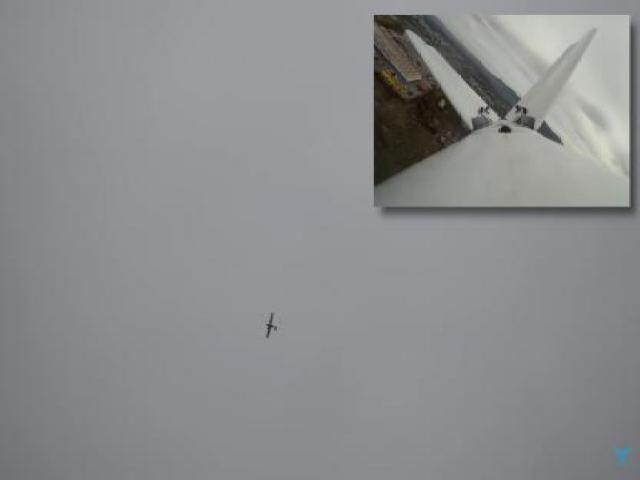uav: (256, 306, 282, 344)
